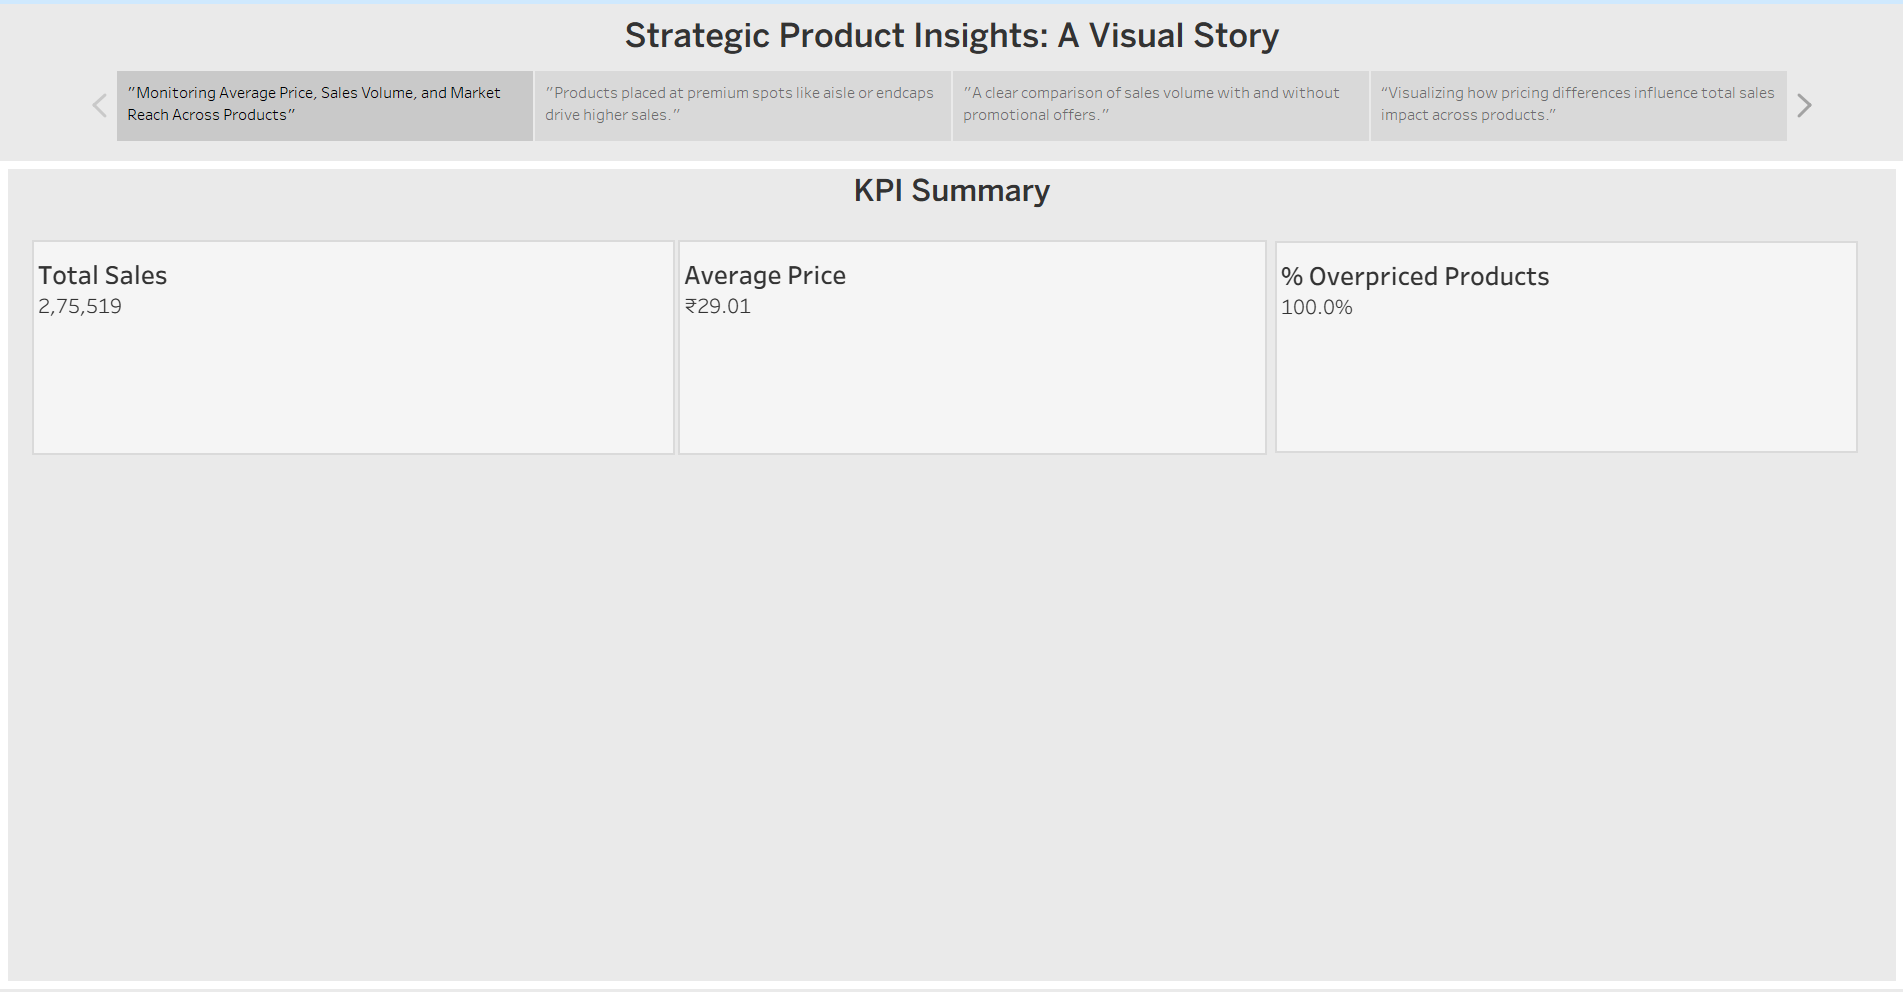

The dashboard page shown, as its layout file describes it:
{"tool":"tableau","page":{"name":"Dashboard 2","canvas":[1000,1000],"units":"permille","ordinal":0},"visuals":[{"type":"title","box":[4.8,10,990.3,54.9]},{"type":"blank","box":[4.8,64.9,990.3,37.5]},{"type":"worksheet","title":"KPI - Total Sales","mark":"Automatic","box":[16.6,94.9,337.7,259.7]},{"type":"worksheet","title":"KPI - Avg Price","mark":"Automatic","box":[356,94.9,309.2,259.7]},{"type":"worksheet","title":"KPI - % Overpriced","mark":"Automatic","box":[669.4,96.1,306.3,255.9]}]}

Visuals, with their boxes on the dashboard's canvas, which has no fixed pixel size, in thousandths of its width and height (x1, y1, x2, y2). These are canvas units, not pixel positions in the 1903x992 screenshot, which may show the page scaled, cropped or inside an application window:
title: box(5, 10, 995, 65)
blank: box(5, 65, 995, 102)
"KPI - Total Sales" worksheet: box(17, 95, 354, 355)
"KPI - Avg Price" worksheet: box(356, 95, 665, 355)
"KPI - % Overpriced" worksheet: box(669, 96, 976, 352)
